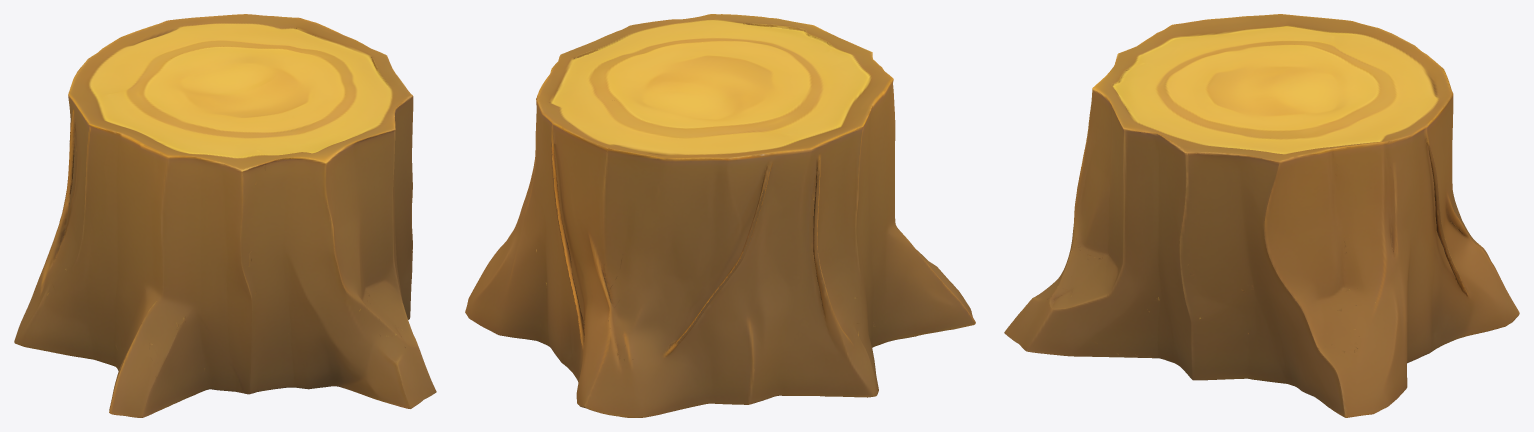
The model's file is base_basic_shaded.fbx.
3 views of the same model, side by side, from view 1: azimuth 30°, elevation 25°; view 2: azimuth 150°, elevation 25°; view 3: azimuth 270°, elevation 25° (orthographic). The views are drawn at different scales.
Parts seen in each view (by area): view 1: geometry_0; view 2: geometry_0; view 3: geometry_0.
Boxes of the visible parts, x1=… form: geometry_0: x1=14, y1=14, x2=436, y2=417; geometry_0: x1=465, y1=14, x2=975, y2=417; geometry_0: x1=1004, y1=14, x2=1519, y2=417.
Size of the model in its own units: 170 by 96.45 by 190.
